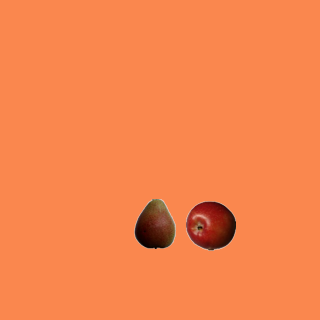Apple Braeburn: (185, 200, 235, 250)
Pear Forelle: (129, 198, 179, 248)
